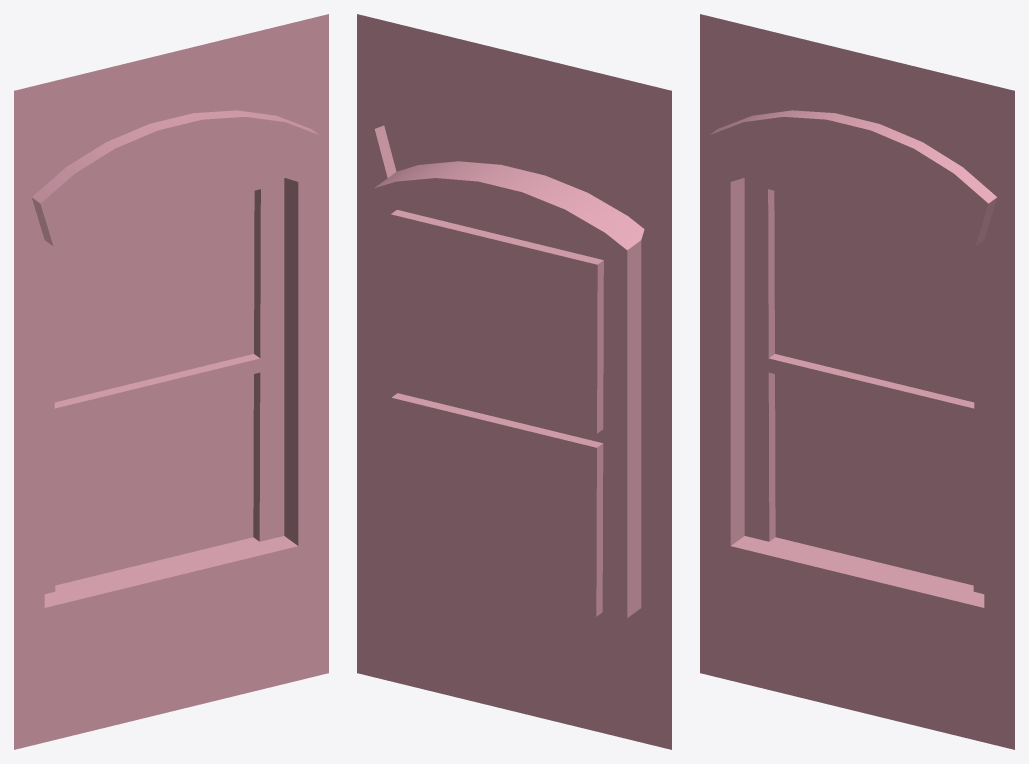
The model's file is BrickWallWindow.fbx.
3 renders of one model, left to right at view 1: azimuth 30°, elevation 25°; view 2: azimuth 150°, elevation 25°; view 3: azimuth 330°, elevation 25°, orthographic.
Visible parts, largest first — view 1: BrickWallWindow; view 2: BrickWallWindow; view 3: BrickWallWindow.
Part boxes in pixels (x1=…): BrickWallWindow: x1=14, y1=14, x2=328, y2=749; BrickWallWindow: x1=357, y1=14, x2=671, y2=749; BrickWallWindow: x1=700, y1=14, x2=1014, y2=749.
Size of the model in its own units: 200 by 400 by 32.08.
